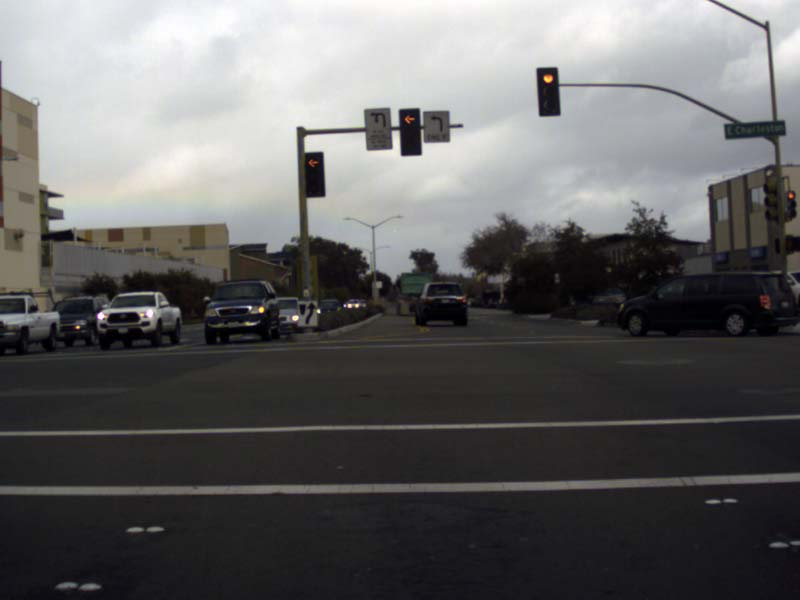Red: (536, 67, 559, 114), (399, 109, 421, 154), (304, 152, 325, 197), (786, 189, 797, 218)
